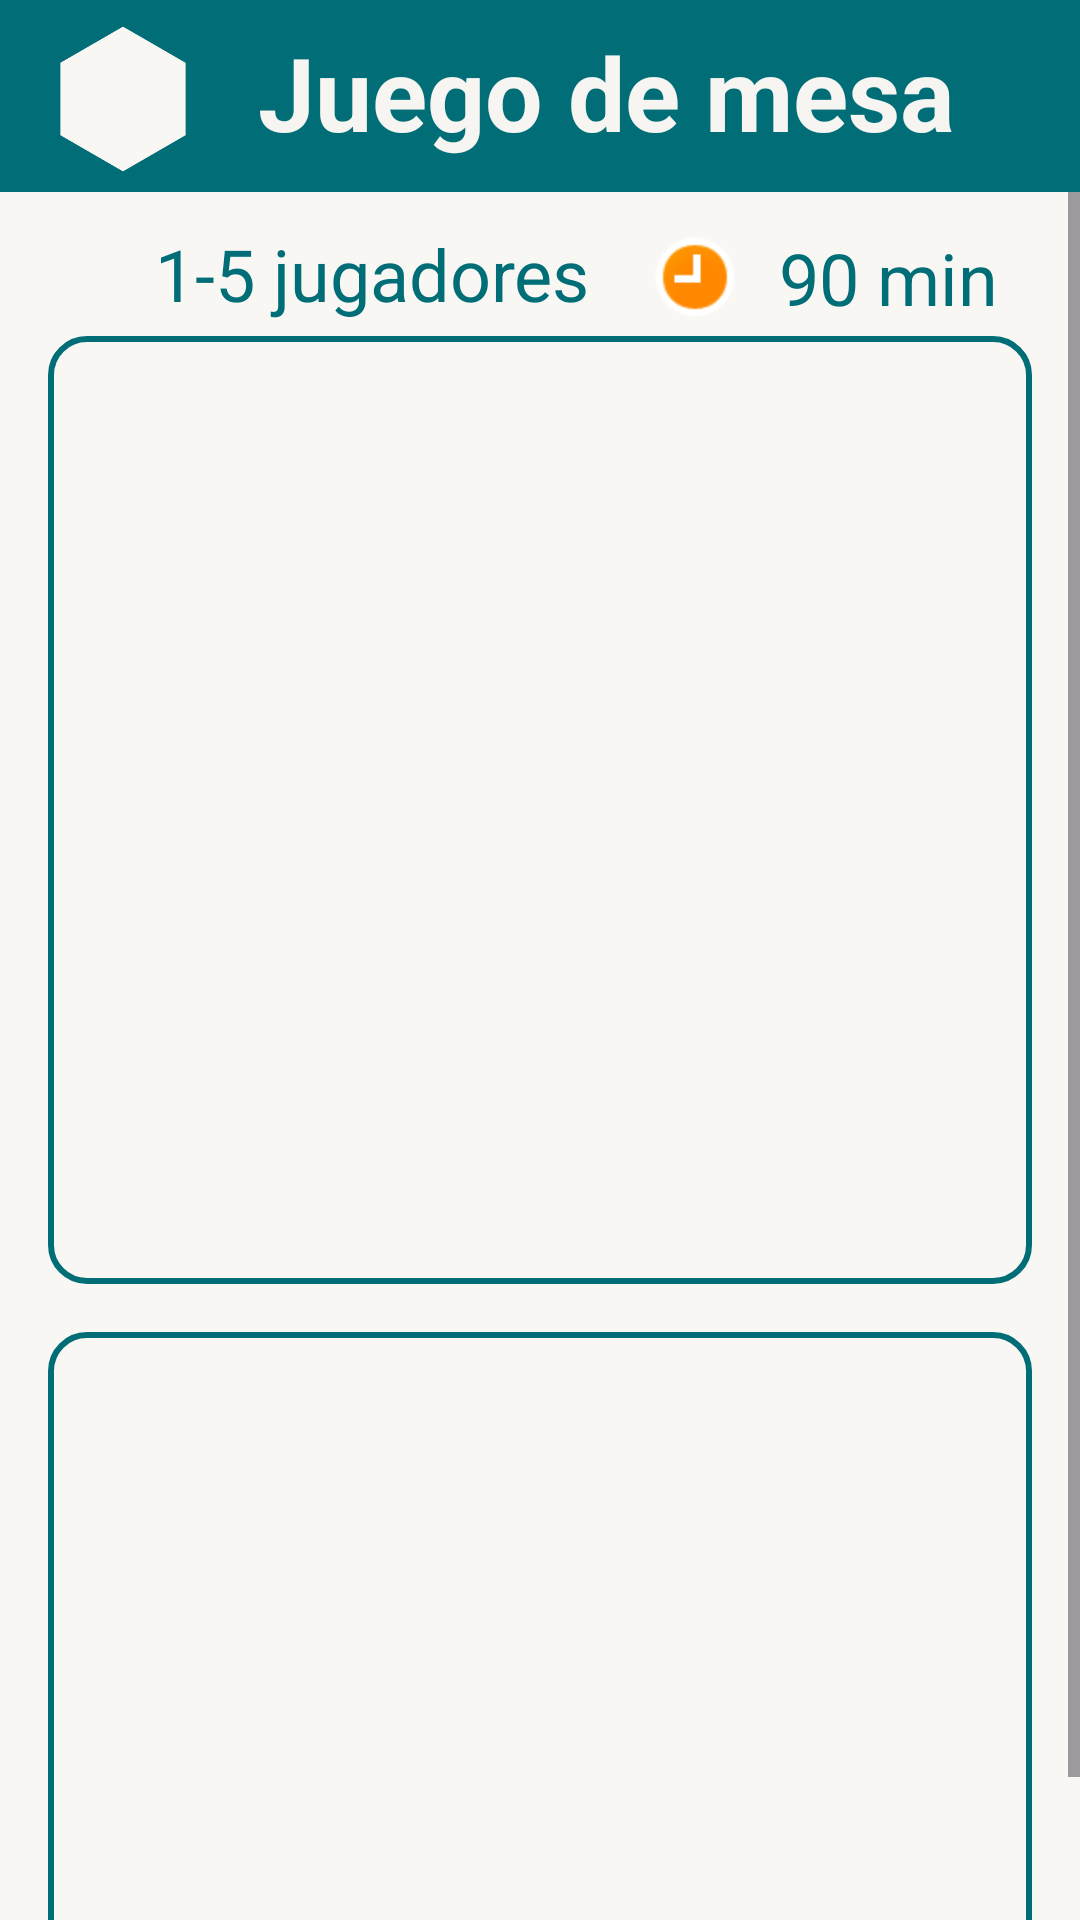

Where to tap for icons on this 1080 x 1920 app screen, as (x,y):
presence away: (695,277)
